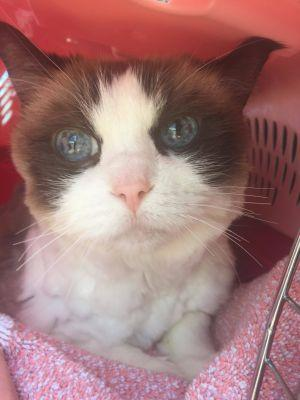ragdoll: (1, 5, 278, 272)
